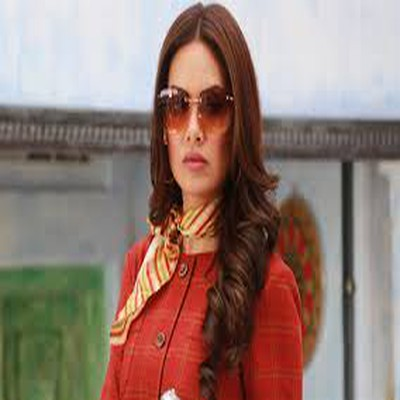eywear: (150, 70, 262, 152)
